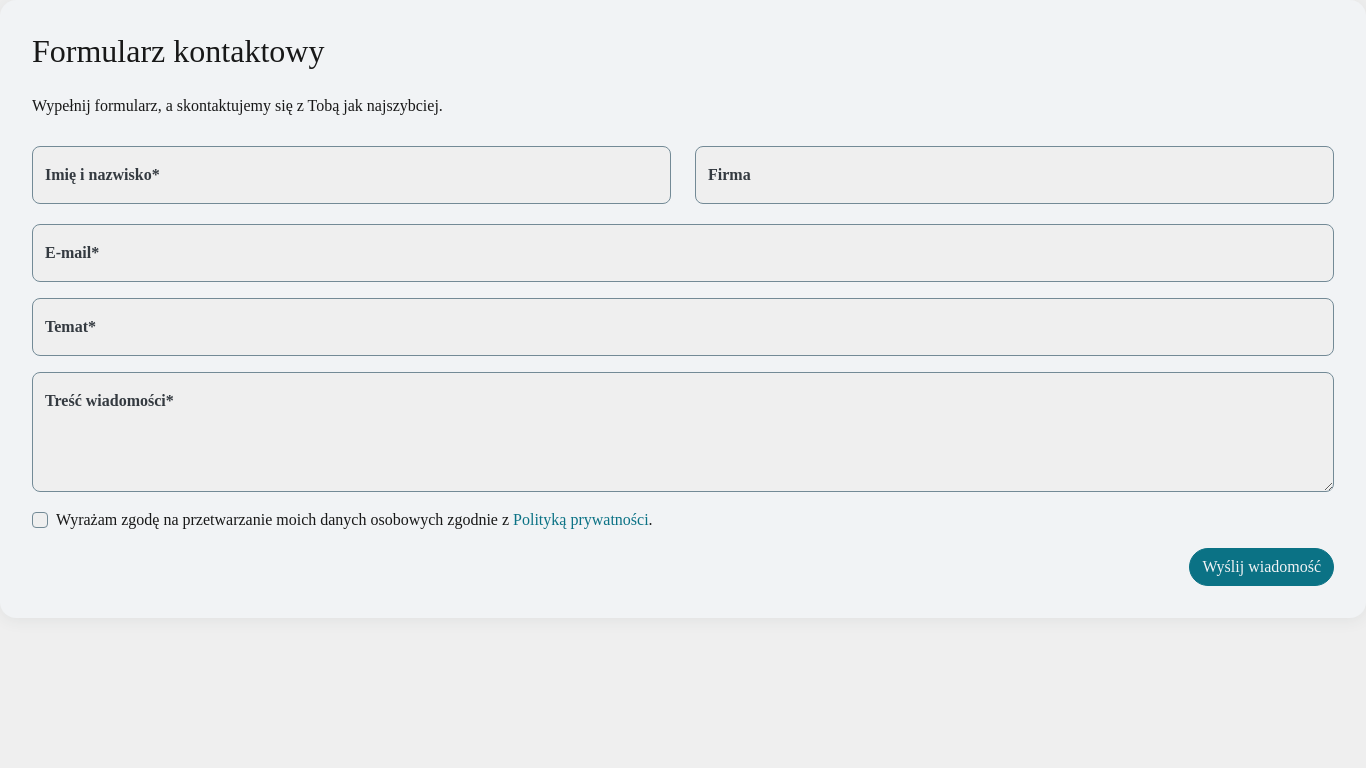
Test: ContactForm component › shows error popup on failed submission
Step 1. Type "John Doe" into the field labelled "Imię i nazwisko*" → {"x": 352, "y": 175}, box [32,146,671,204]
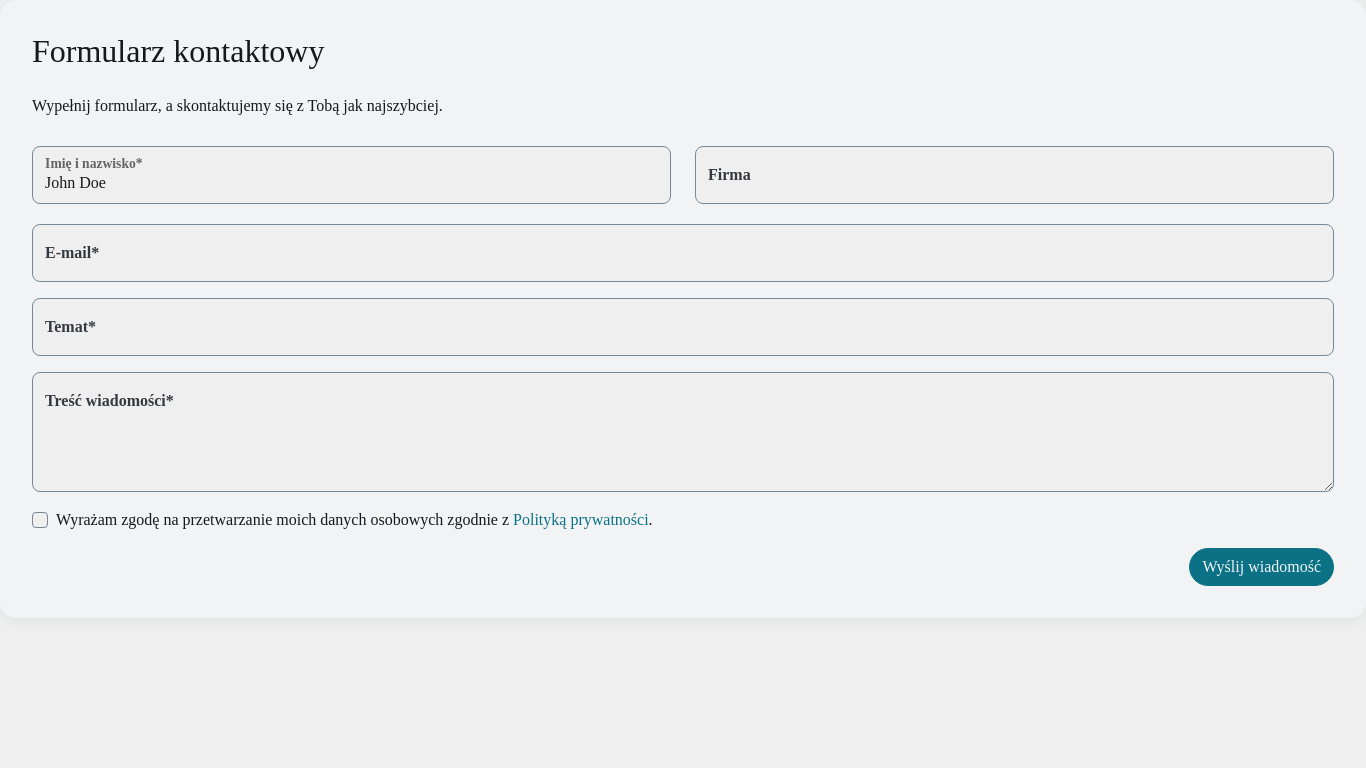
Step 2. Type "john@example.com" into the field labelled "E-mail*" → {"x": 683, "y": 253}, box [32,224,1334,282]
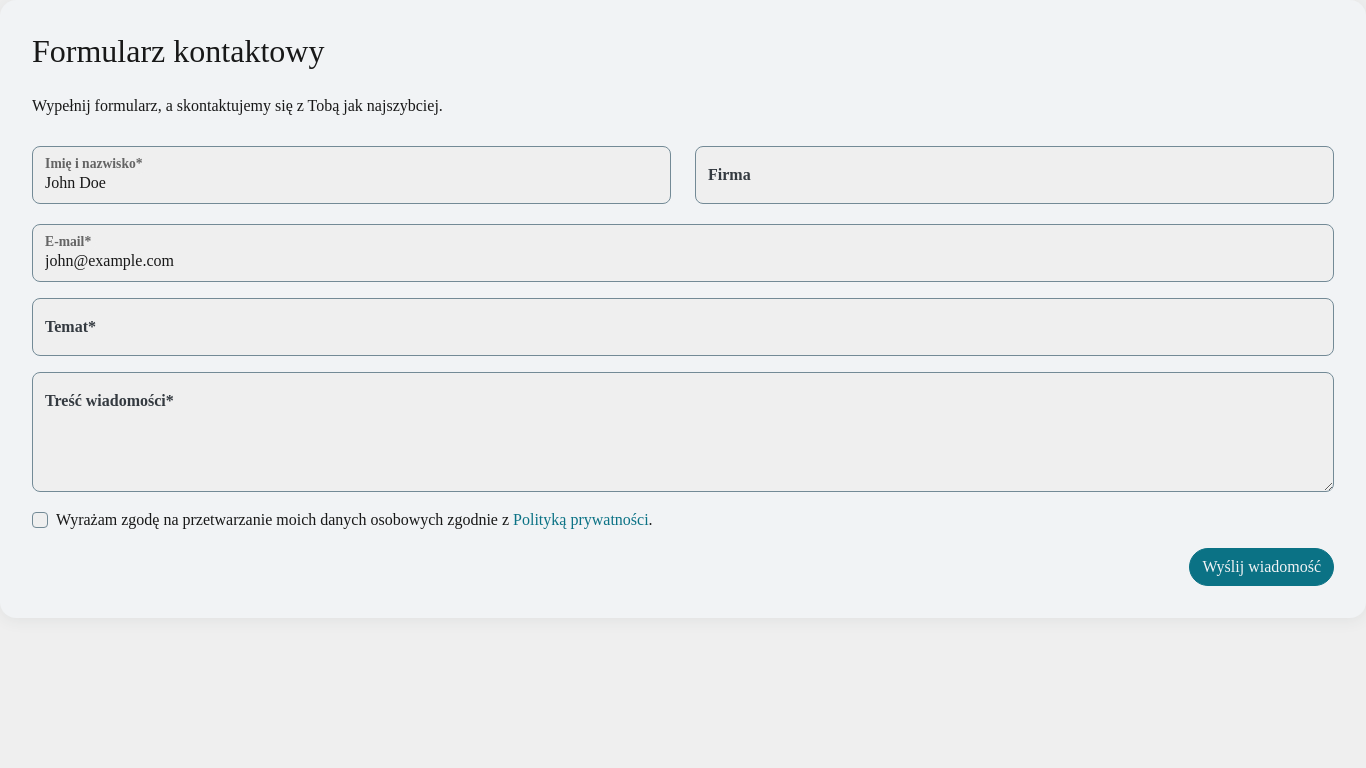
Step 3. Type "Test Subject" into the field labelled "Temat*" → {"x": 683, "y": 327}, box [32,298,1334,356]
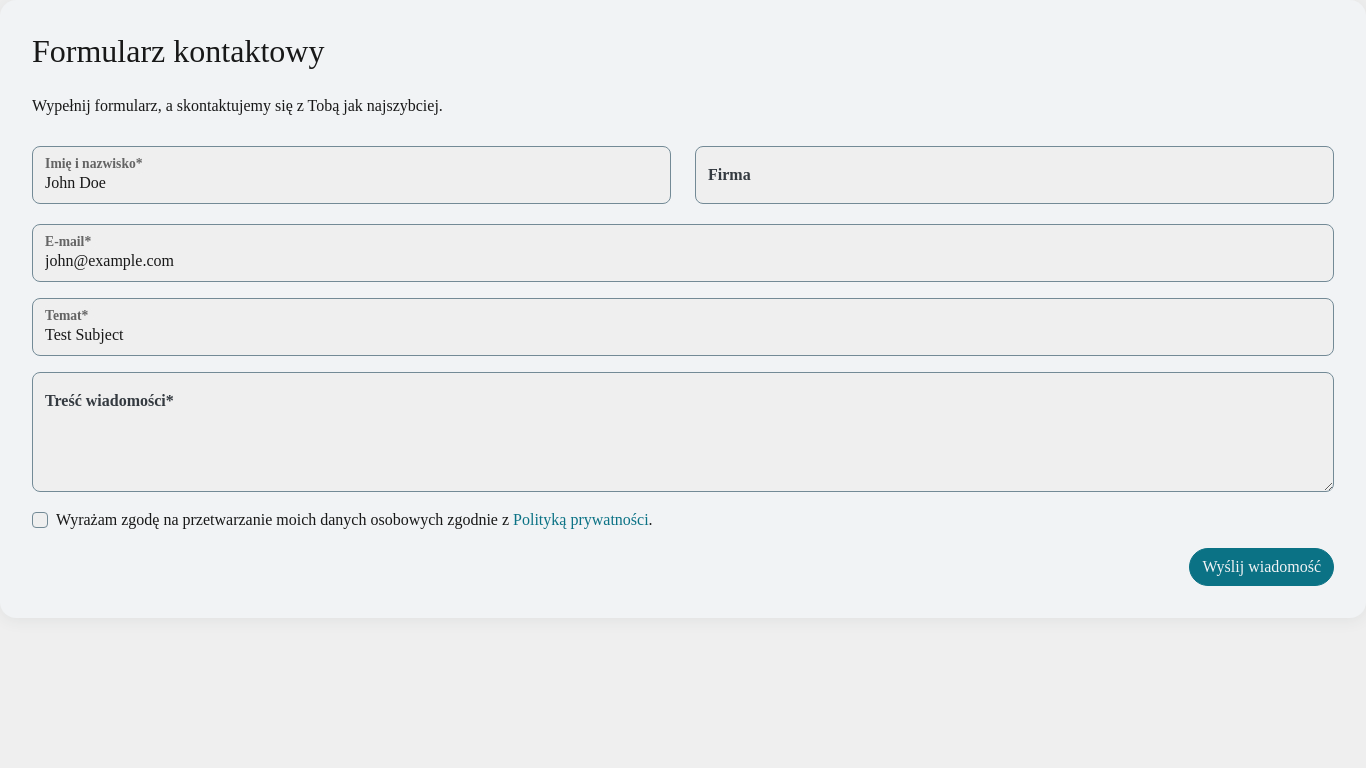
Step 4. Type "This is a test message." into the text box labelled "Treść wiadomości*" → {"x": 683, "y": 432}, box [32,372,1334,492]
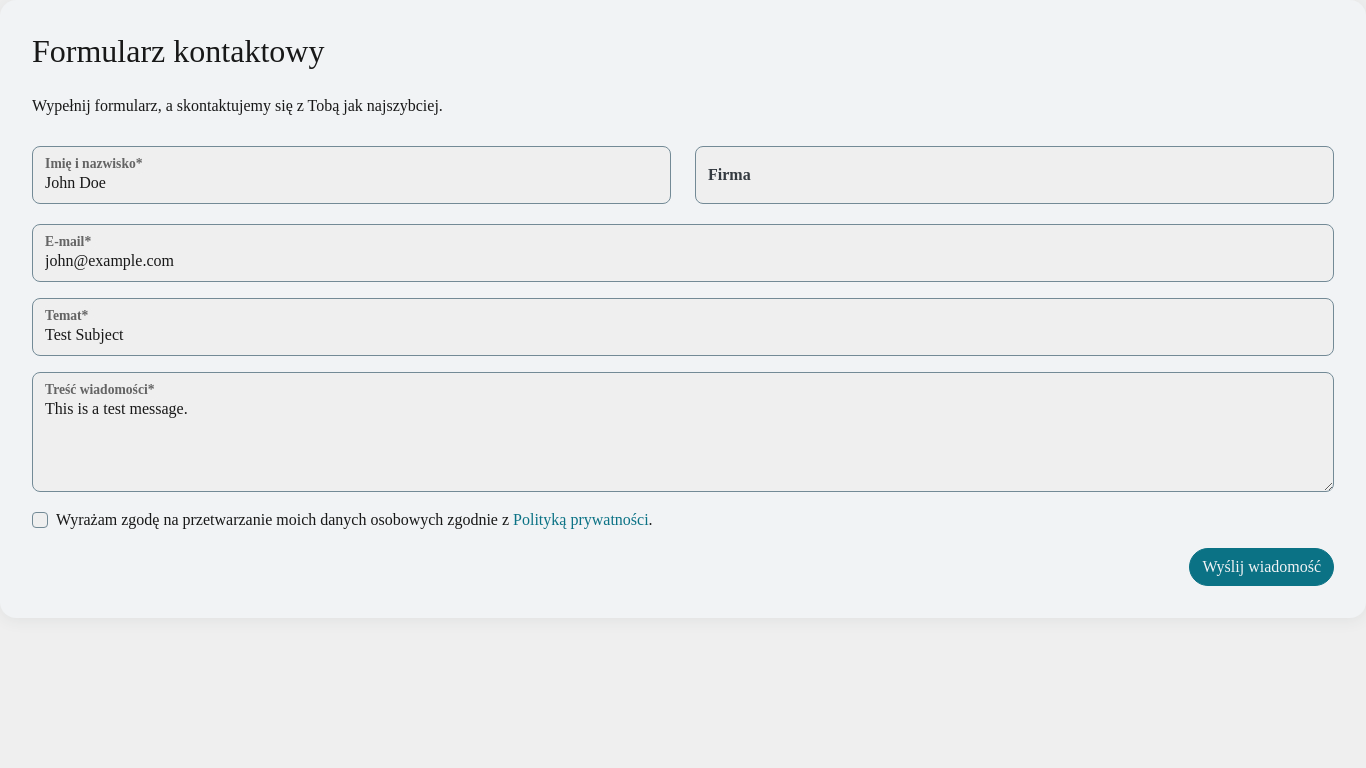
Step 5. Click the checkbox labelled "Wyrażam zgodę" → {"x": 40, "y": 520}, box [32,512,48,528]
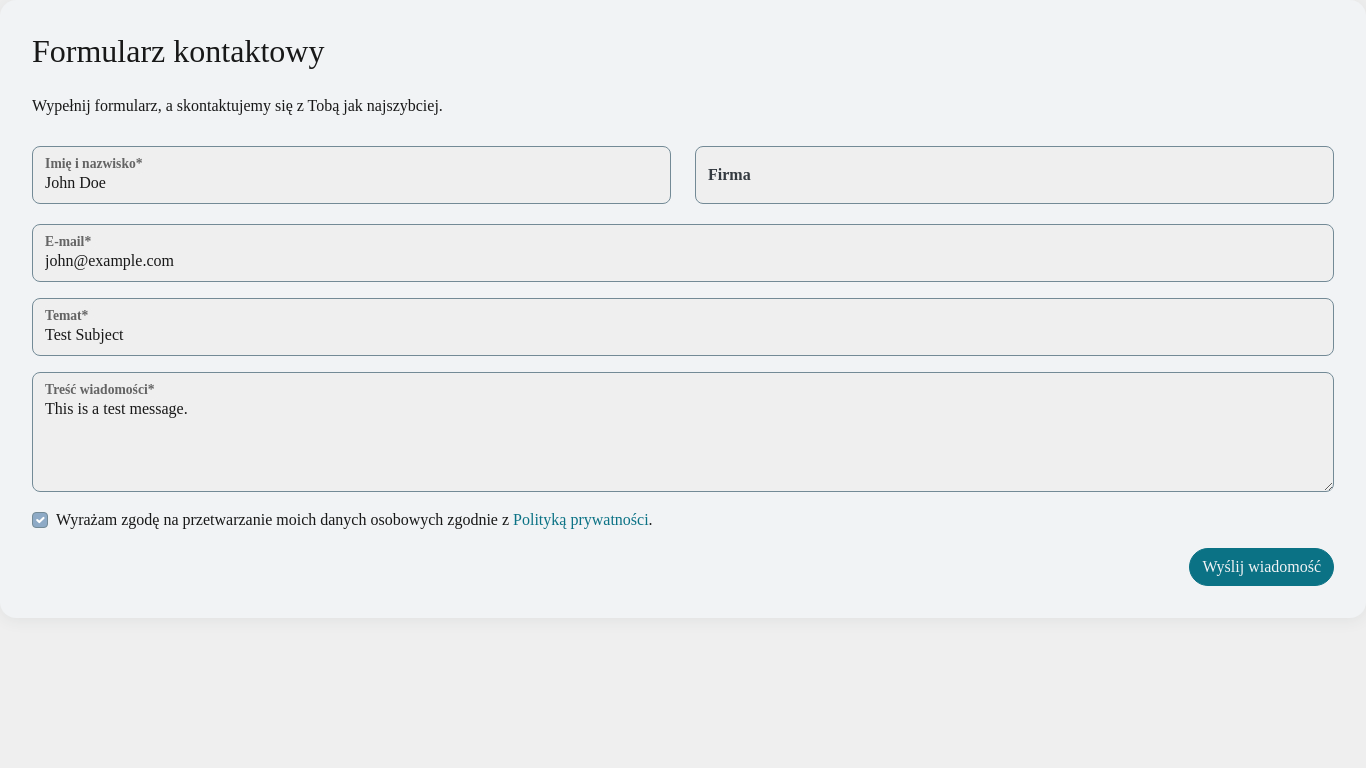
Step 6. Click the button "Wyślij wiadomość" → {"x": 1262, "y": 567}, box [1189,548,1334,586]
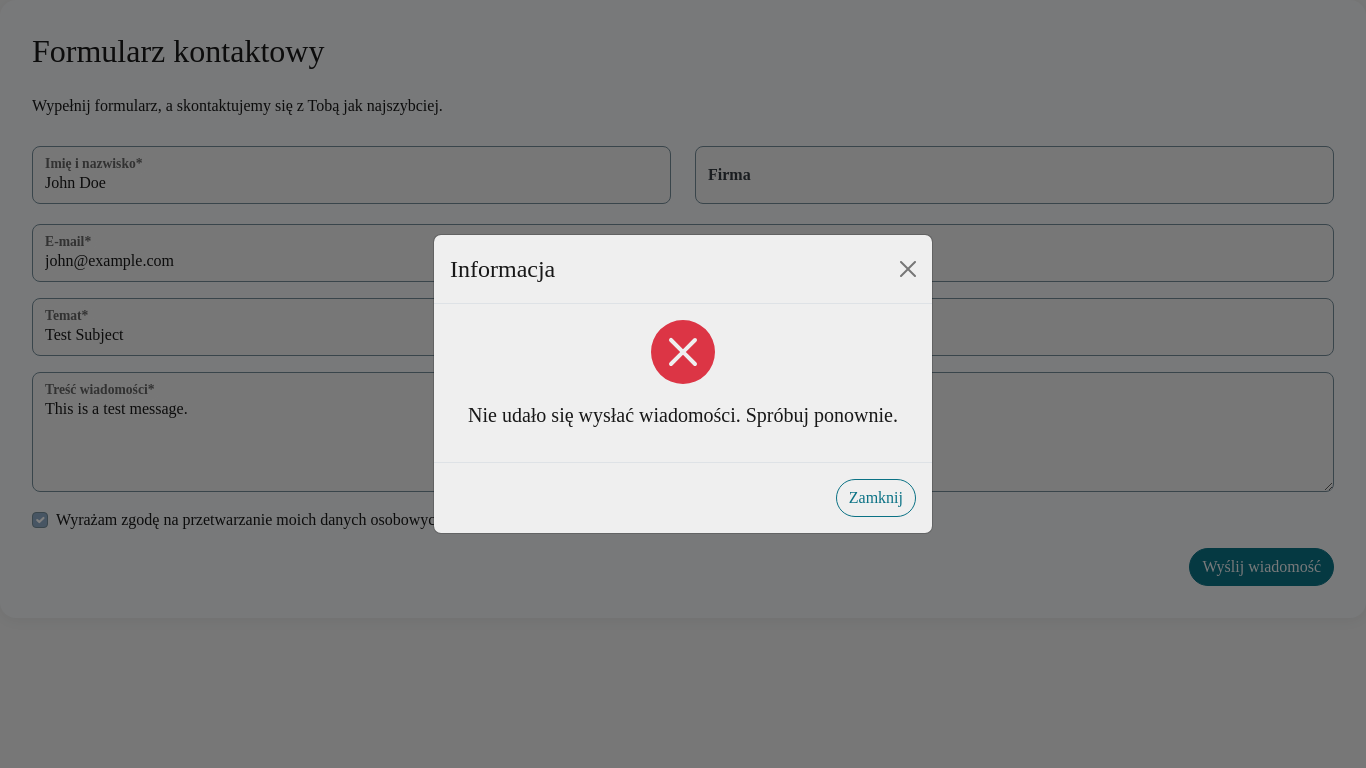
Expected: the text "Nie udało się wysłać wiadomości. Spróbuj ponownie." is shown, [450,400,916,430]
